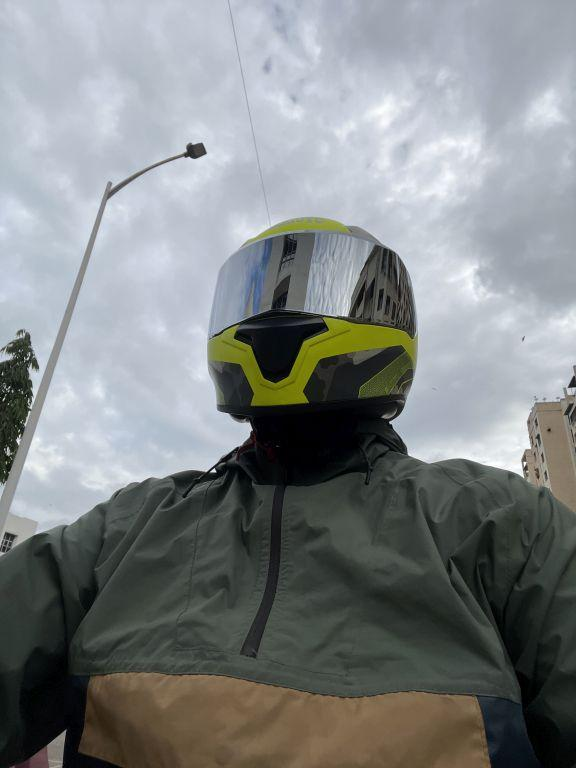helmet: (199, 204, 428, 446)
